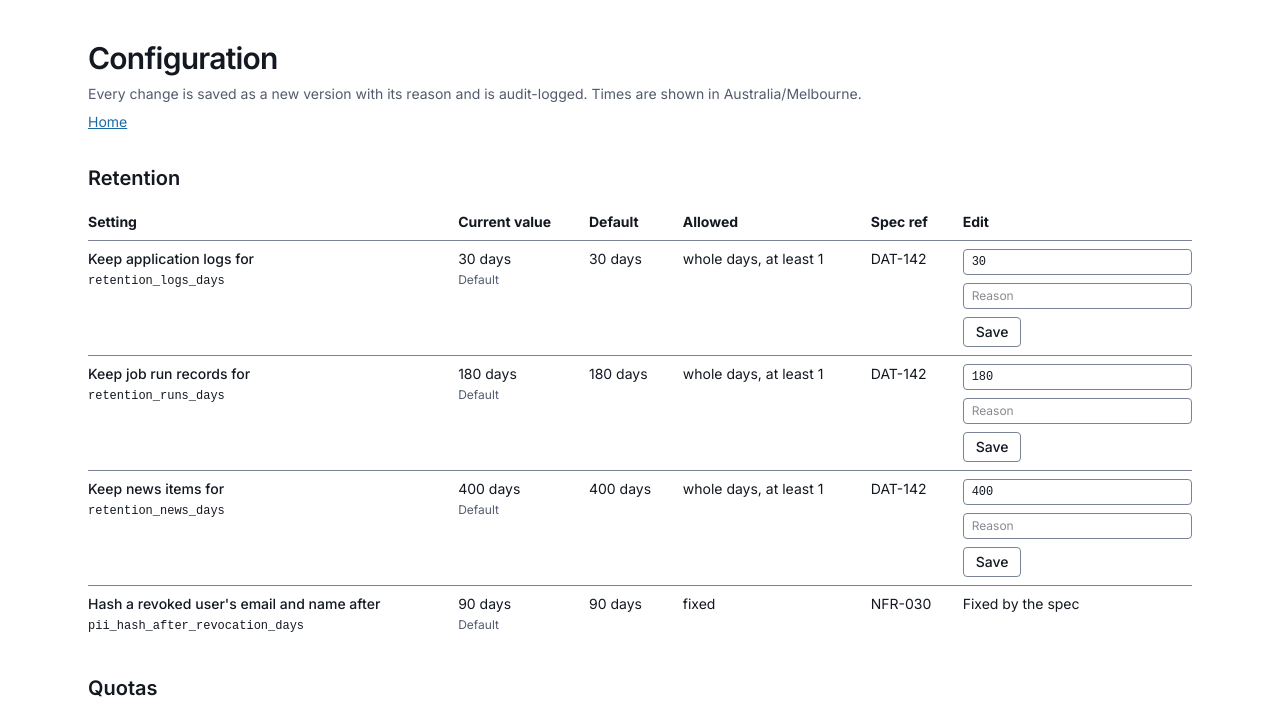
it: ConfigForm › submits the form data, then shows Saved
Replace the text in the field named "New value for" with "21". click: (1077, 262)
box: [963,249,1192,275]
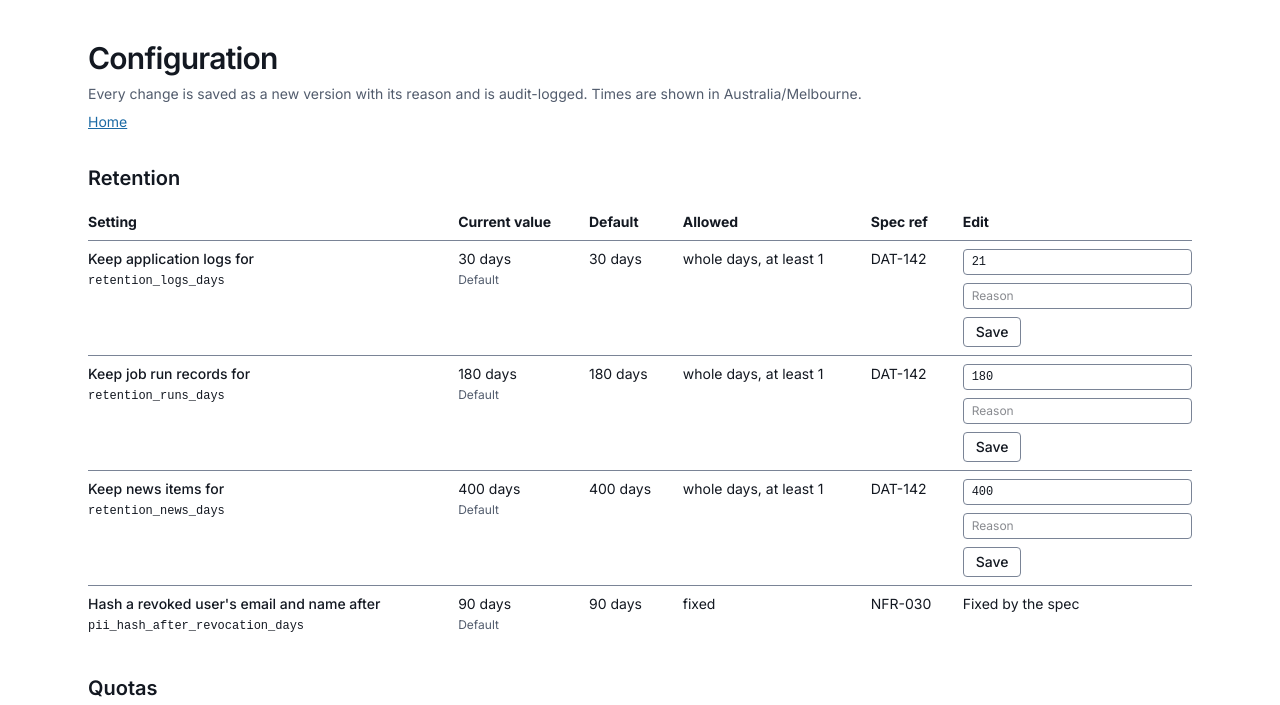
Type "tidy" into the field named "Reason for". click: (1077, 296)
box: [963,283,1192,309]
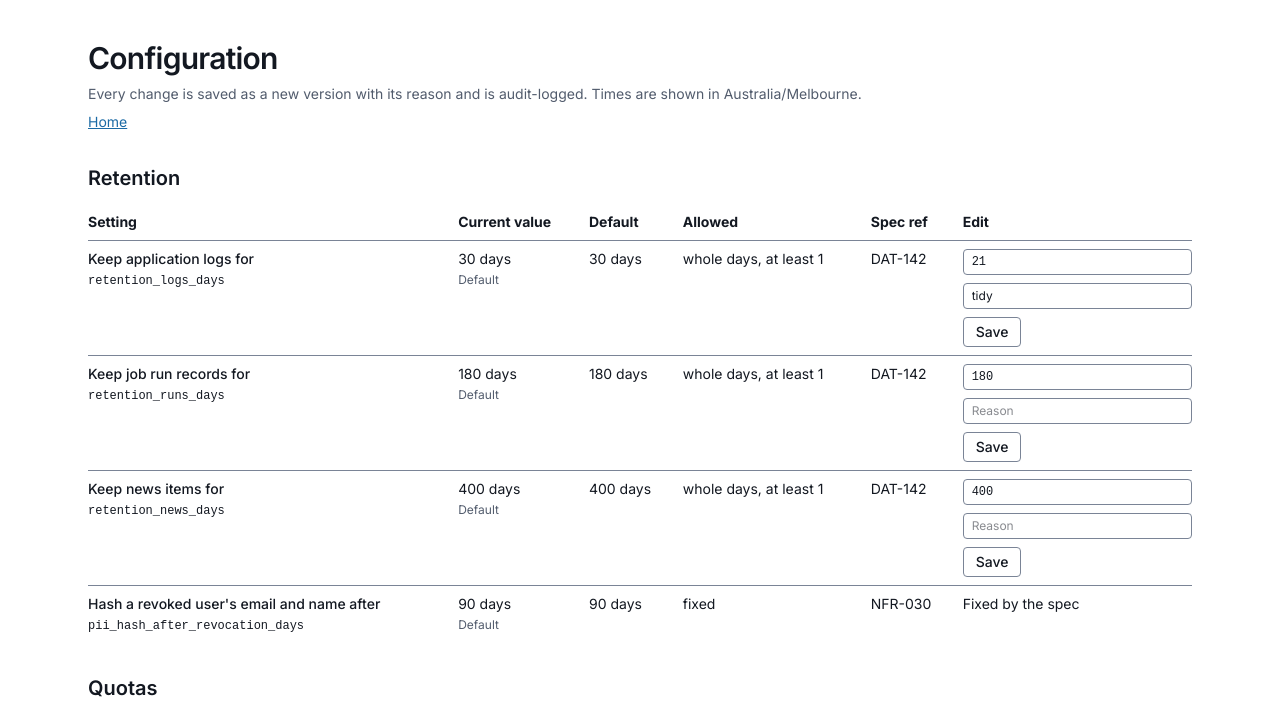
Submit the form "Save" in the row of "Keep application logs for", box [963,249,1192,347]
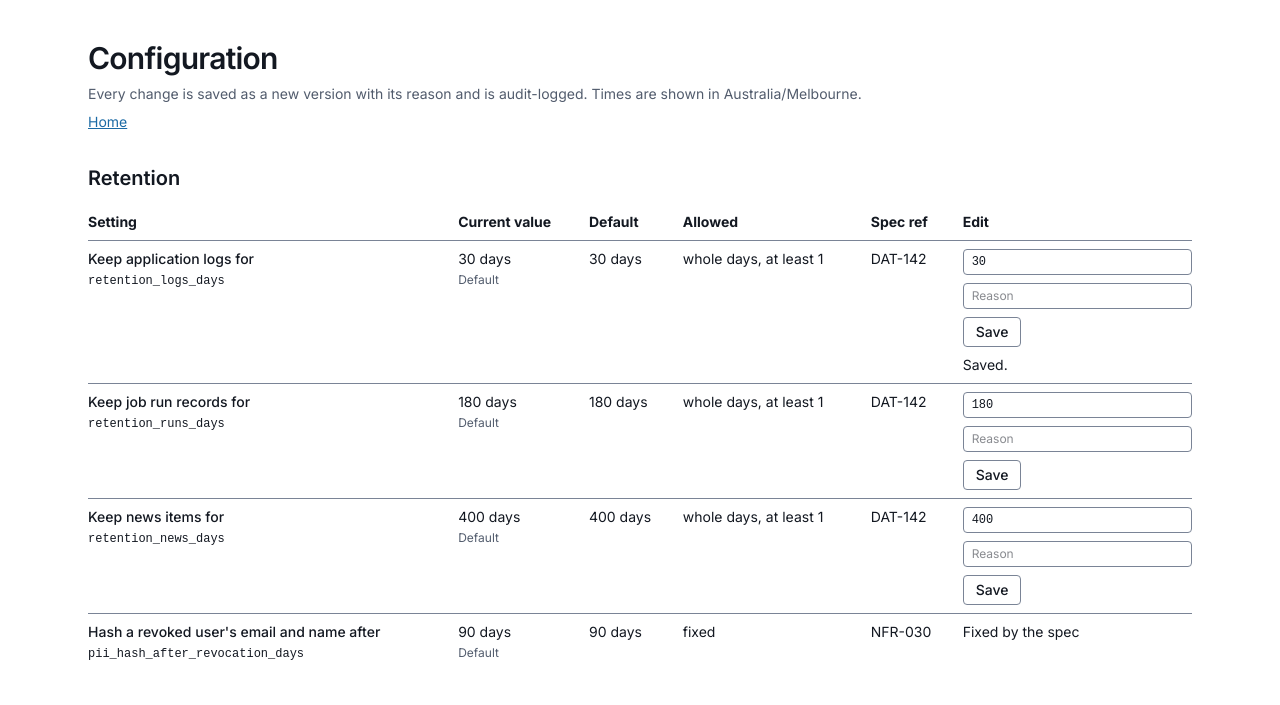
expect the text "retention_logs_days" is shown: met, box [88,274,225,288]
expect the message reads "Saved.": met, box [963,356,1008,373]
